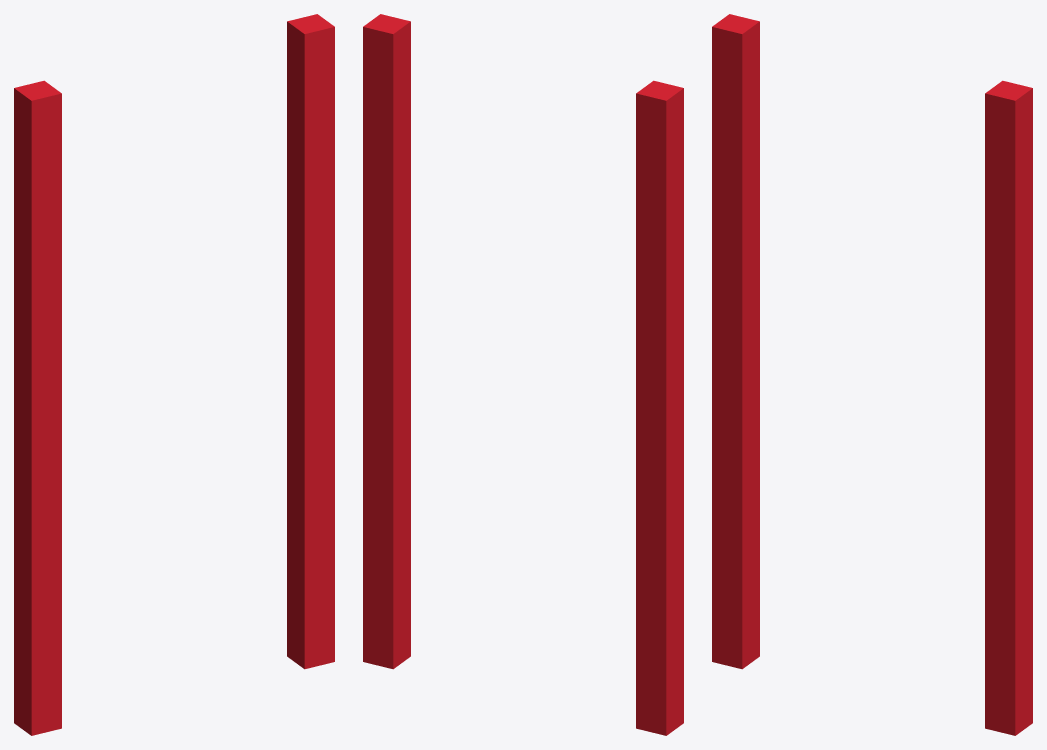
File: tinker.obj
3 views of the same model, side by side, from view 1: azimuth 30°, elevation 25°; view 2: azimuth 150°, elevation 25°; view 3: azimuth 330°, elevation 25° (orthographic).
Visible parts, largest first — view 1: obj_0; view 2: obj_0; view 3: obj_0.
Part boxes in pixels (bbox=[...]): obj_0: bbox=[14, 14, 334, 735]; obj_0: bbox=[363, 14, 683, 735]; obj_0: bbox=[712, 14, 1032, 735].
Size of the model in its own units: 20 by 40 by 2.
